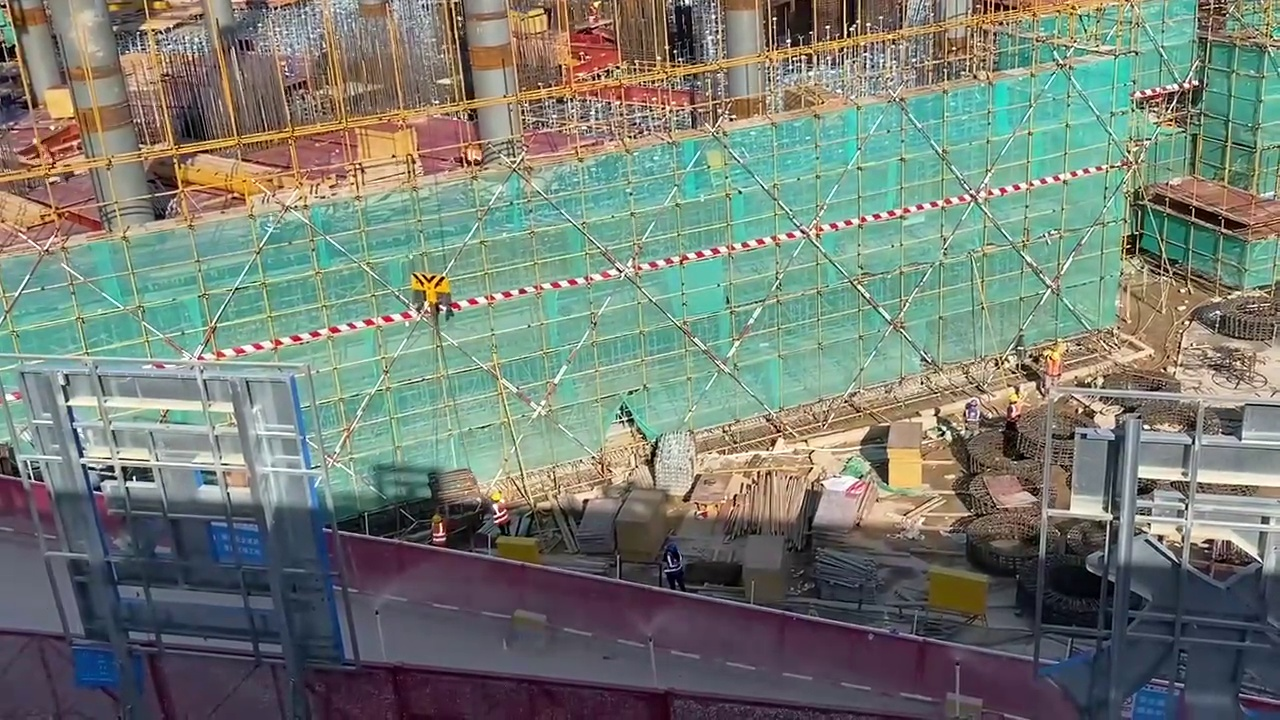board: (886, 420, 921, 491)
fence: (3, 628, 804, 720)
hook: (410, 273, 451, 309)
person: (487, 487, 512, 537), (662, 539, 685, 588), (427, 513, 448, 549)
wood: (733, 470, 805, 549)
